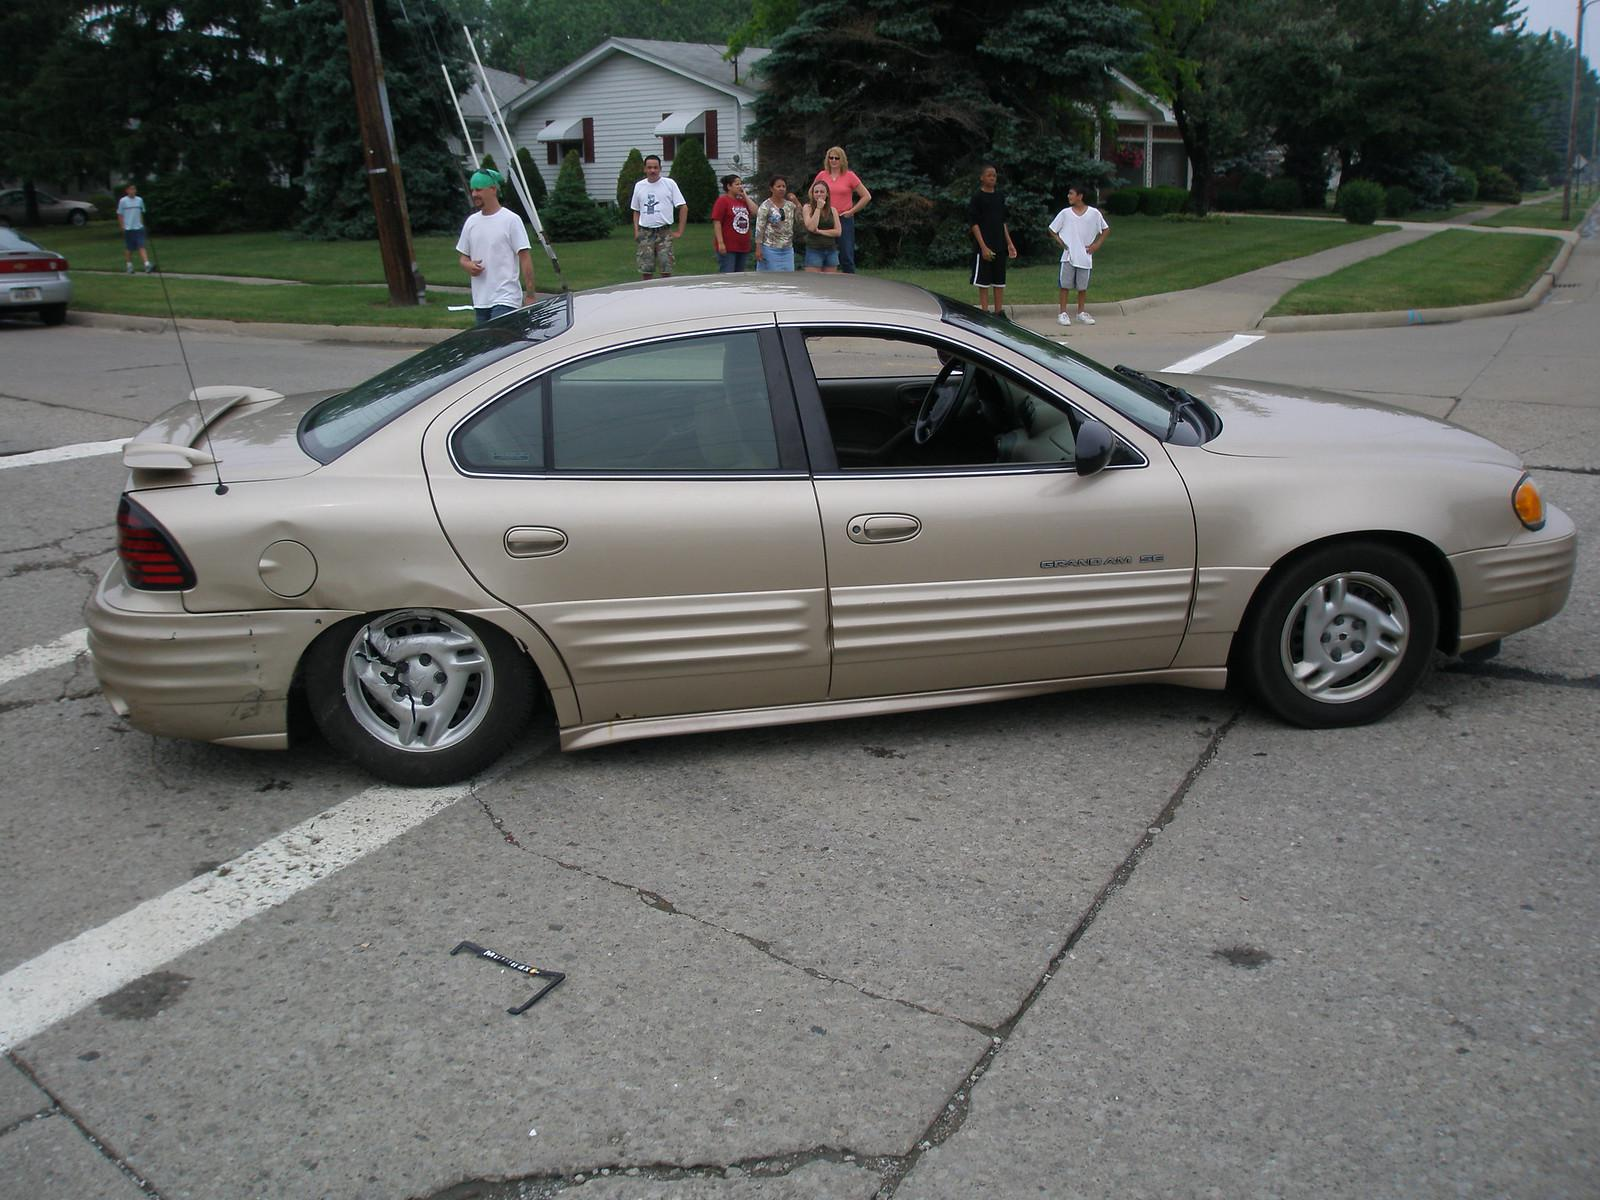quaterpanel-dent: (185, 483, 454, 637)
